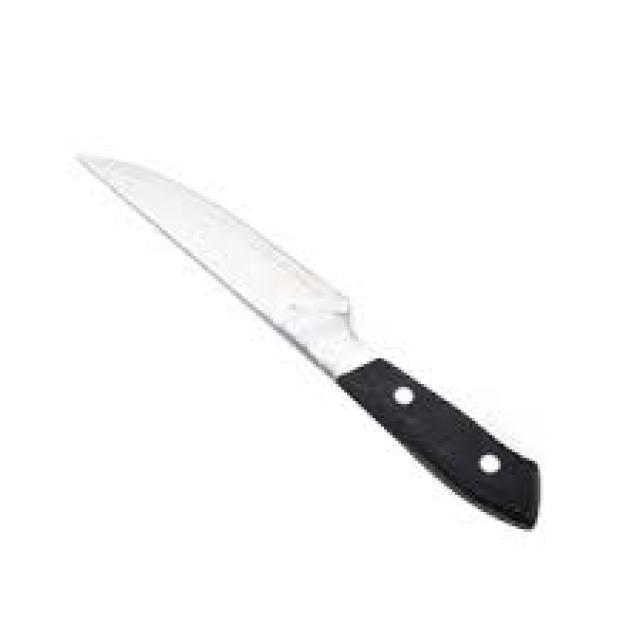Knife: (74, 148, 540, 529)
